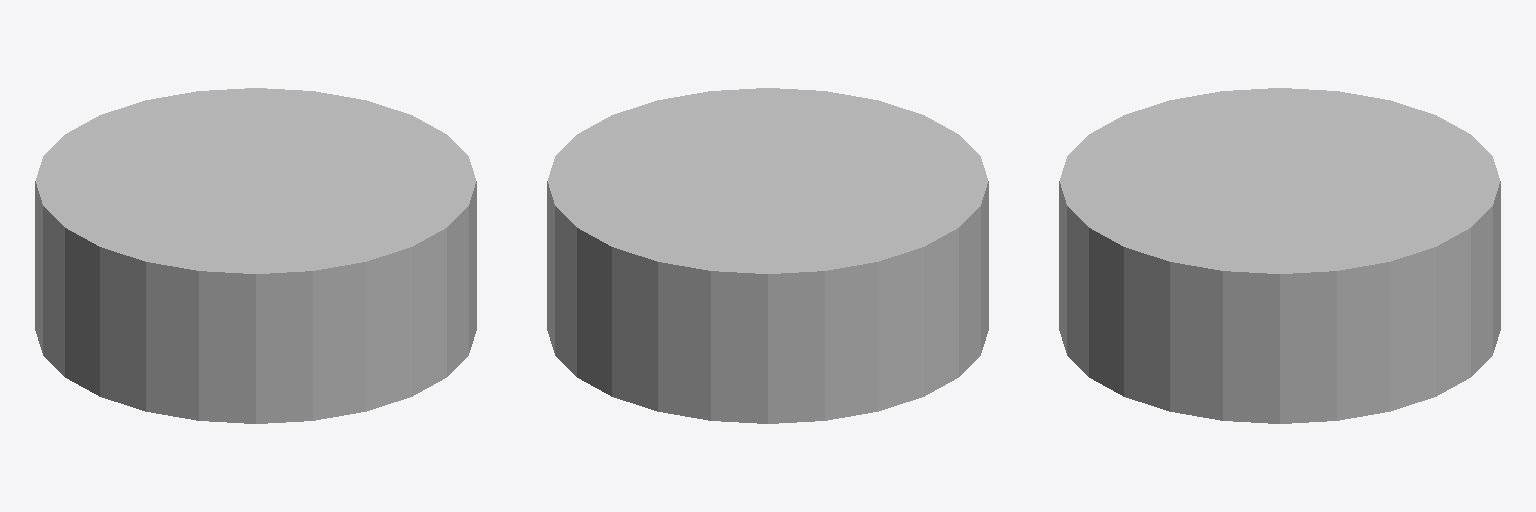
The model's file is original-22.obj.
3 renders of one model, left to right at view 1: azimuth 30°, elevation 25°; view 2: azimuth 150°, elevation 25°; view 3: azimuth 270°, elevation 25°, orthographic.
Visible parts, largest first — view 1: #ID115; view 2: #ID115; view 3: #ID115.
Boxes of the visible parts, <box> form: #ID115: <box>35,88,476,423</box>; #ID115: <box>547,88,988,423</box>; #ID115: <box>1059,88,1500,423</box>.
Size of the model in its own units: 0.0233 by 0.0088 by 0.0233.